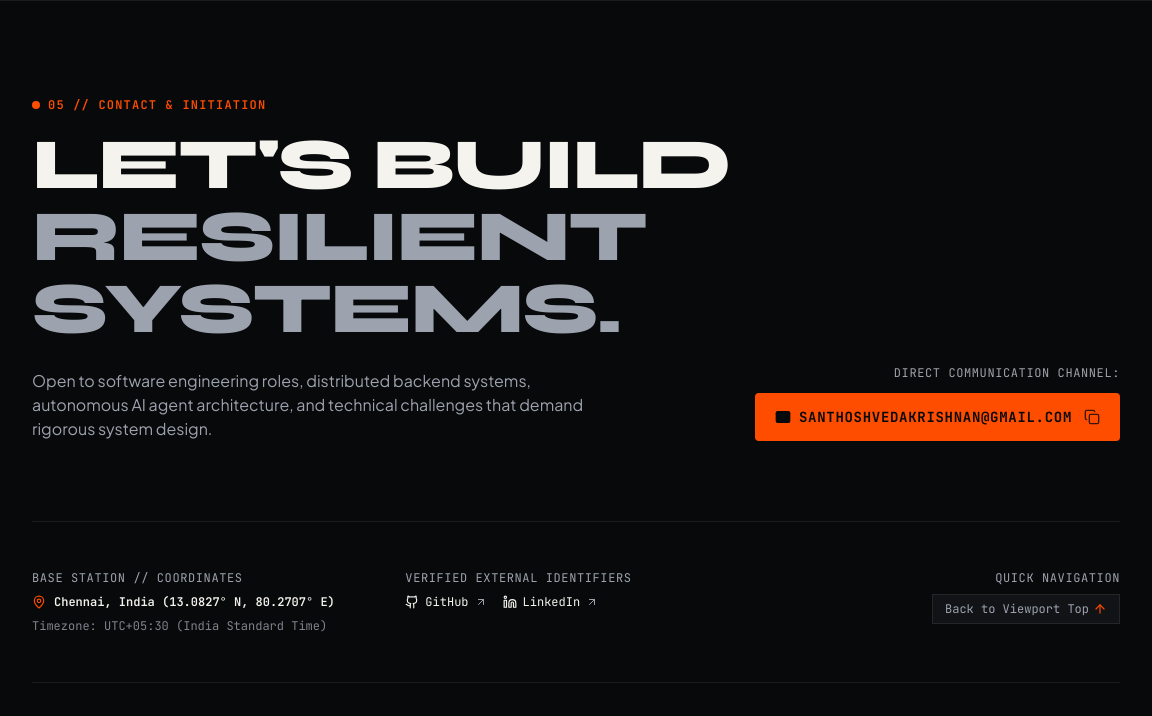
Test: Footer Component › copies email to clipboard on button click
The image size is (1152, 716).
Click the button with aria-label "Copy email address" at (938,417), box [755,393,1120,441]
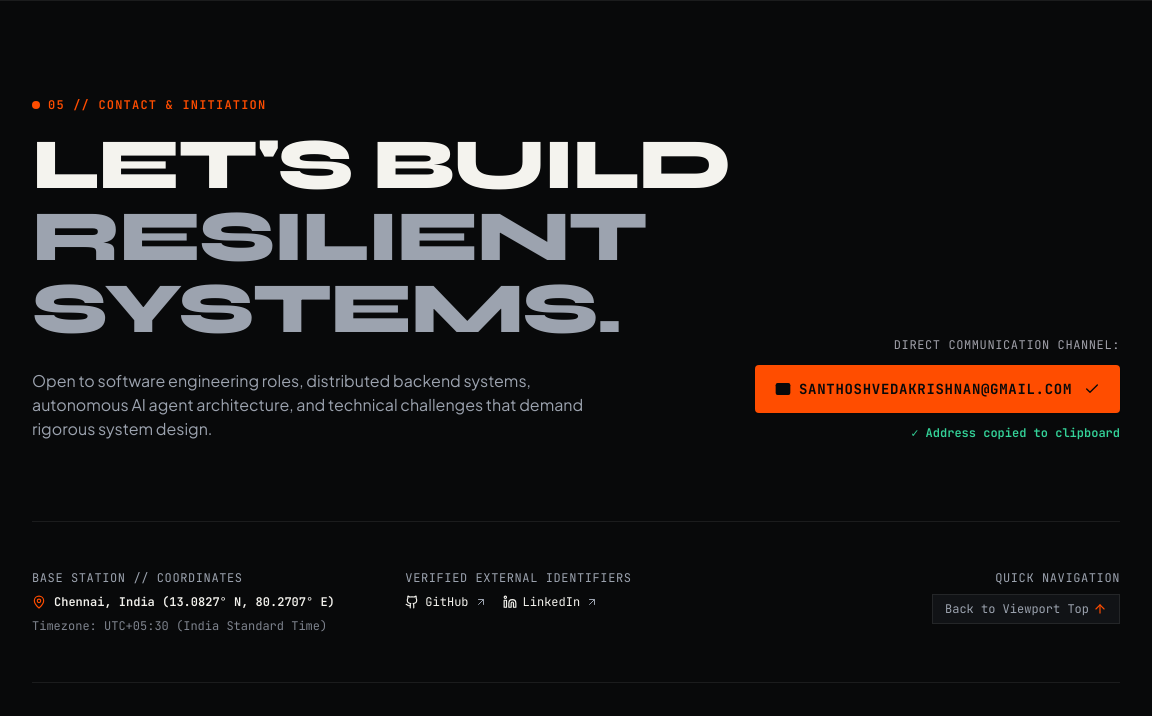
Expected: the text "✓ Address copied to clipboard" is shown, [911,425,1120,441]
